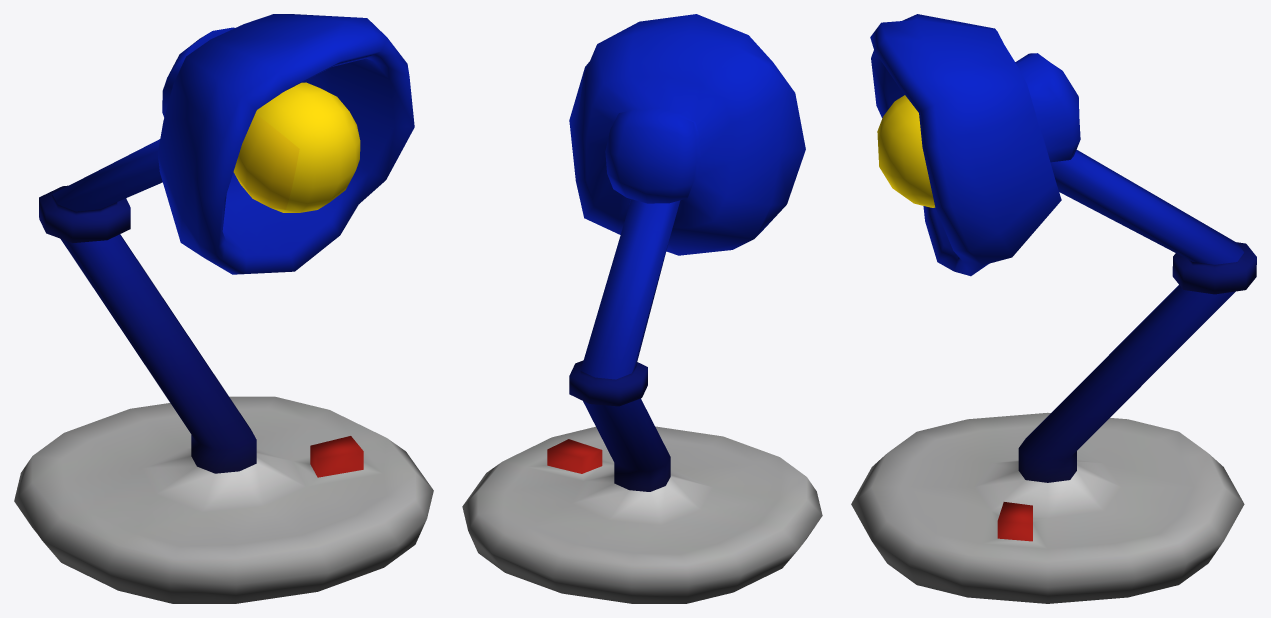
File: Luminaria.fbx
3 views of the same model, side by side, from view 1: azimuth 30°, elevation 25°; view 2: azimuth 150°, elevation 25°; view 3: azimuth 270°, elevation 25° (orthographic). The views are drawn at different scales.
Parts seen in each view (by area): view 1: Luminaria; view 2: Luminaria; view 3: Luminaria.
Part boxes in pixels (left/top/right/bottom): Luminaria: left=14, top=14, right=433, bottom=603; Luminaria: left=462, top=14, right=822, bottom=603; Luminaria: left=851, top=14, right=1256, bottom=603.
Bounding box in the file's own units: 39.15 × 55.19 × 40.38.
Materials: 1 (1 with a texture image).
